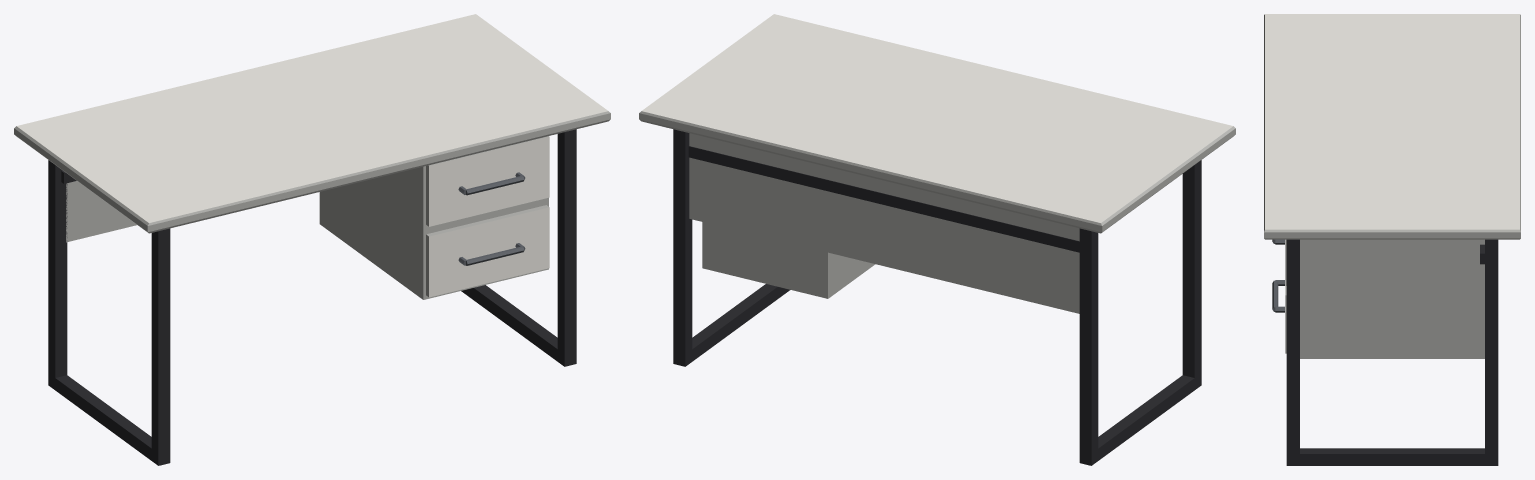
The model's file is FN_Desk_Office.glb.
The picture shows the model from 3 angles, left to right: view 1: azimuth 30°, elevation 25°; view 2: azimuth 150°, elevation 25°; view 3: azimuth 270°, elevation 25°; orthographic projection. The views are drawn at different scales.
Parts seen in each view (by area): view 1: FN_Desk_Office; view 2: FN_Desk_Office; view 3: FN_Desk_Office.
Part boxes in pixels (x1,y1,x2,y2): FN_Desk_Office: (14, 14, 610, 465); FN_Desk_Office: (639, 14, 1235, 465); FN_Desk_Office: (1264, 14, 1520, 465).
Size of the model in its own units: 1.4 by 0.74 by 0.7.
1 material, 1 textured.
